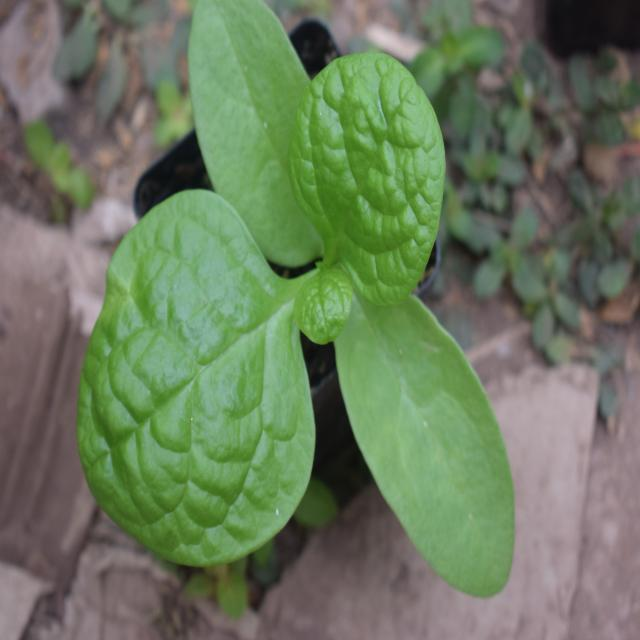Ceylon spinach: (106, 4, 522, 607)
